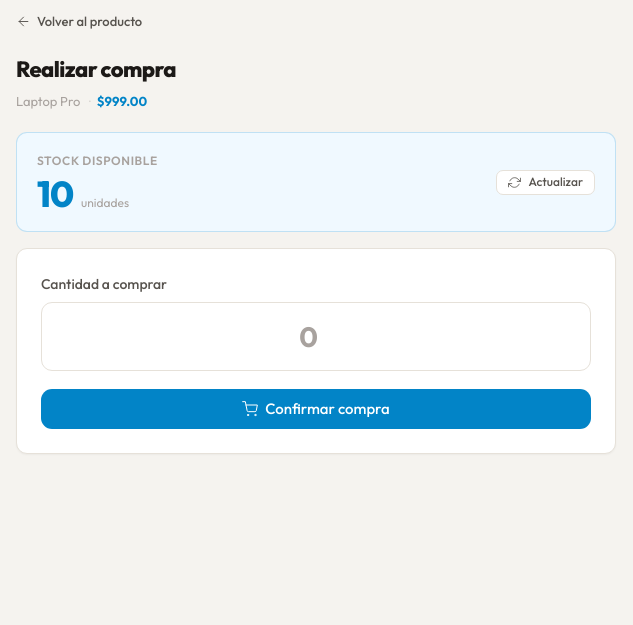
Test: PurchaseView › muestra éxito tras compra correcta
Type "2" into the number field labelled "Cantidad a comprar" at point(316, 336), box [41, 302, 591, 371]
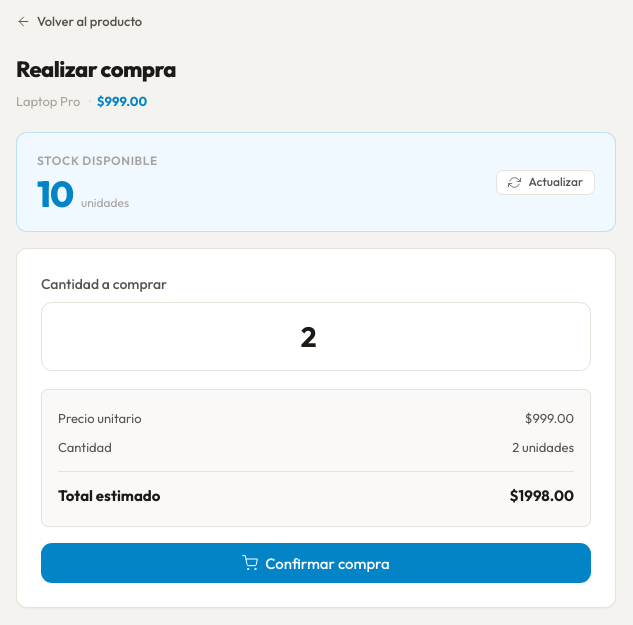
Submit the form, box [41, 273, 591, 583]
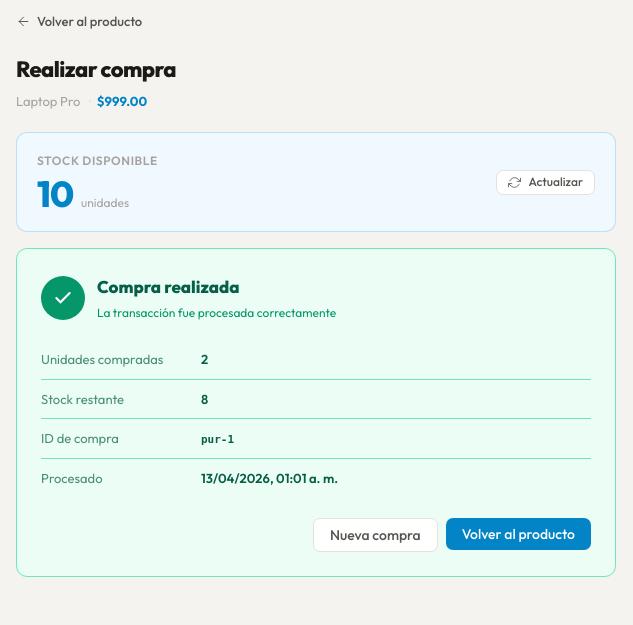
Check: the text "2" is shown, box [201, 340, 591, 379]
Check: the text "8" is shown, box [201, 379, 591, 419]
Check: the text "Compra realizada" is shown, box [97, 276, 240, 297]
